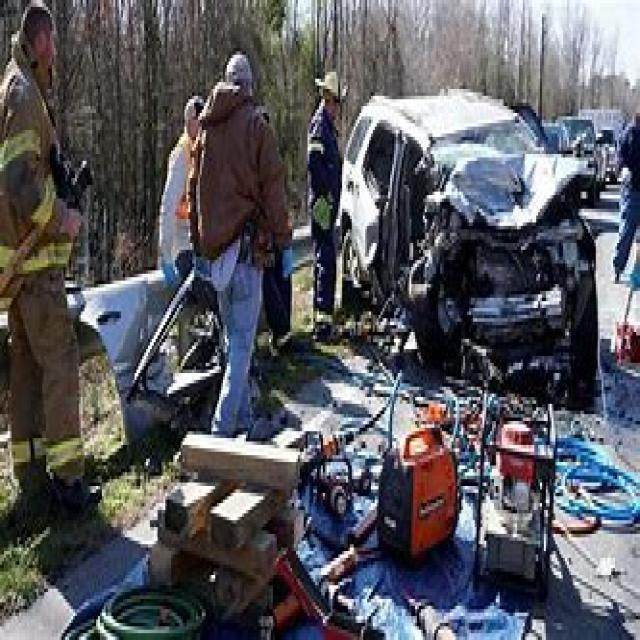single accident: (295, 12, 640, 445)
